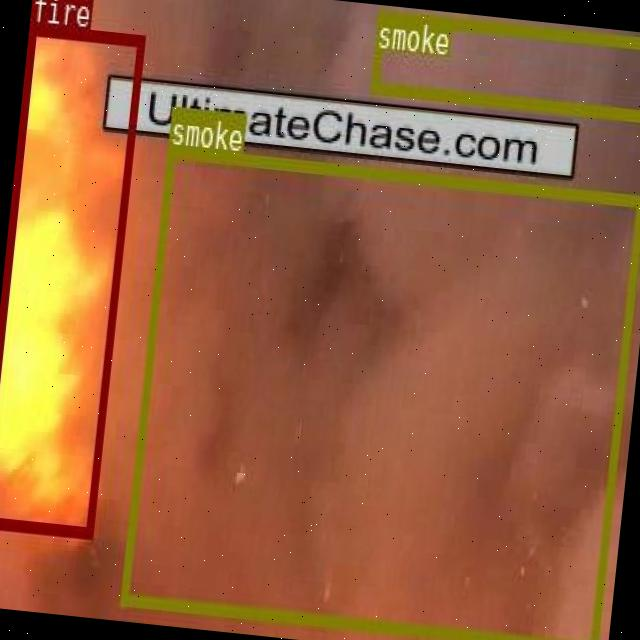fire: (0, 22, 143, 536)
smoke: (119, 144, 640, 640), (368, 9, 640, 121)
